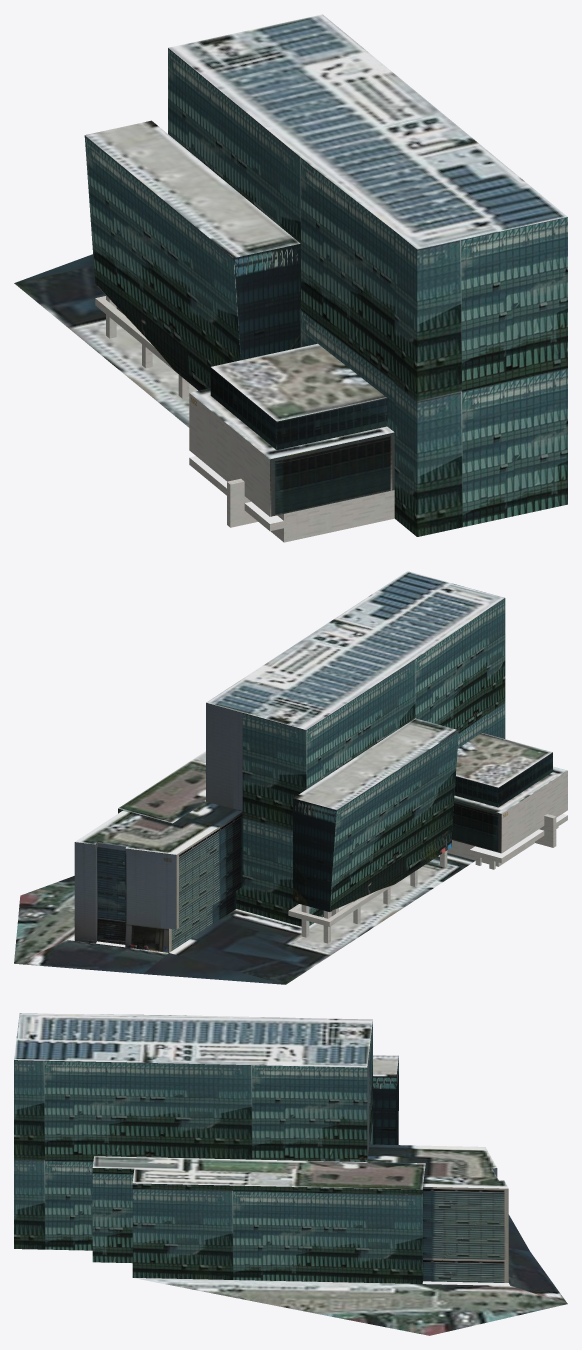
File: building_102.fbx
3 views of the same model, one above another, from view 1: azimuth 30°, elevation 25°; view 2: azimuth 150°, elevation 25°; view 3: azimuth 270°, elevation 25° (orthographic). The views are drawn at different scales.
Parts seen in each view (by area): view 1: skp6966_1; view 2: skp6966_1; view 3: skp6966_1.
Boxes of the visible parts, x1,y1,x2,y2 form: skp6966_1: (14,14,567,542); skp6966_1: (14,571,567,984); skp6966_1: (14,1013,567,1335).
Size of the model in its own units: 2997 by 1642 by 4186.
